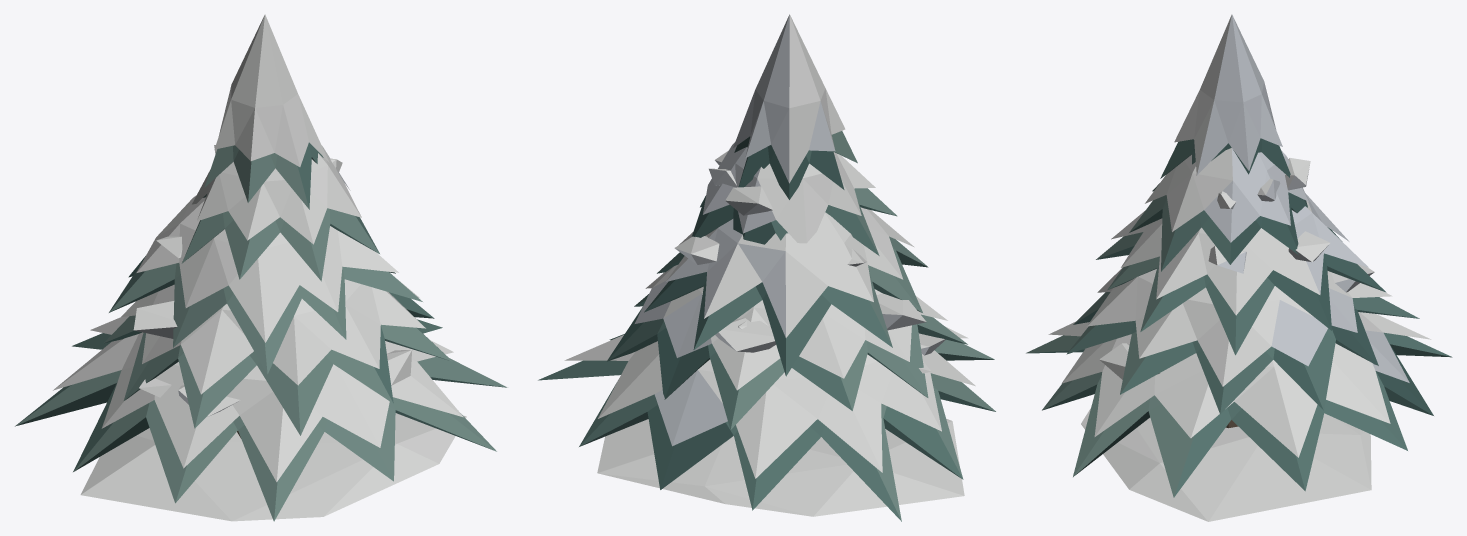
The model's file is tree_arctic_1.glb.
The picture shows the model from 3 angles, left to right: view 1: azimuth 30°, elevation 25°; view 2: azimuth 150°, elevation 25°; view 3: azimuth 270°, elevation 25°; orthographic projection. The views are drawn at different scales.
Parts seen in each view (by area): view 1: Body; view 2: Body; view 3: Body.
Boxes of the visible parts, x1,y1,x2,y2 form: Body: (15,14,507,521); Body: (538,14,995,521); Body: (1026,14,1452,521).
Bounding box in the file's own units: 5.05 × 5.5 × 4.9.
